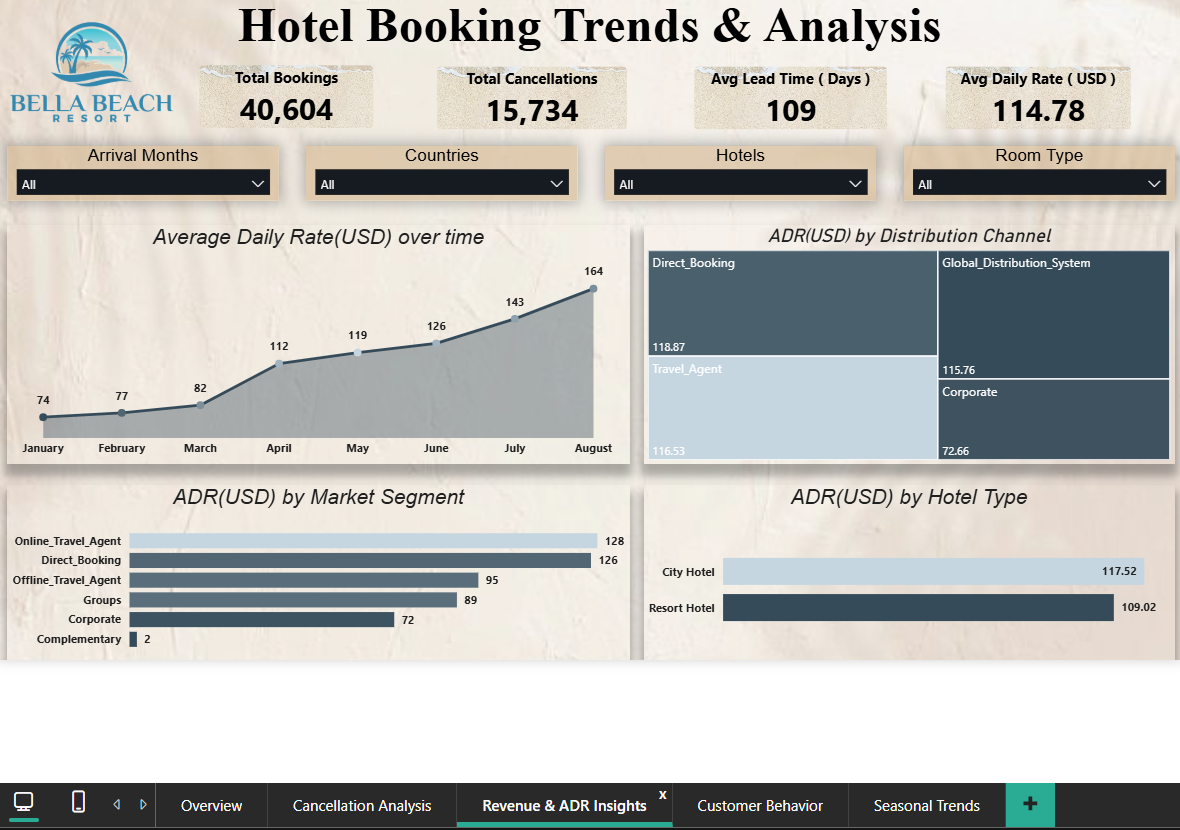

This screenshot's page, from the dashboard's own definition file:
{"tool":"powerbi","page":{"name":"Revenue & ADR Insights","canvas":[1280,720],"ordinal":2},"visuals":[{"type":"slicer","title":"Hotels","fields":{"Values":["hotel_revenue.hotel"]},"box":[655.8,166.3,293,59.3],"z":0},{"type":"slicer","title":"Countries","fields":{"Values":["hotel_revenue.Country Full Name"]},"box":[333.7,166.3,293,59.3],"z":1000},{"type":"textbox","box":[82.2,0,1115.9,86.3],"z":2000},{"type":"slicer","title":"Arrival Months","fields":{"Values":["hotel_revenue.arrival_date_month"]},"box":[12.8,166.3,293,59.3],"z":3000},{"type":"image","box":[12.8,0,181.4,173.3],"z":4000},{"type":"cardVisual","fields":{"Data":["Measure.Avg Lead Time"]},"box":[735.8,63.3,242.6,102.4],"z":5000},{"type":"cardVisual","fields":{"Data":["Measure.Cancellation Rate"]},"box":[458.2,63.3,239.9,102.4],"z":6000},{"type":"cardVisual","fields":{"Data":["Measure.Total Bookings"]},"box":[202.1,62,222.4,102.4],"z":7000},{"type":"cardVisual","fields":{"Data":["Measure.Avg Daily Rate"]},"box":[1006.7,63.3,234.5,102.4],"z":8000},{"type":"slicer","title":"Room Type","fields":{"Values":["hotel_revenue.assigned_room_type"]},"box":[977.9,166.3,293,59.3],"z":9000},{"type":"areaChart","title":"Average Daily Rate(USD) over time","fields":{"Category":["hotel_revenue.arrival_date_month"],"Y":["Avg(hotel_revenue.average_daily_rate)"]},"box":[12.1,250.7,671.1,258.8],"z":10000},{"type":"treemap","title":"ADR(USD) by Distribution Channel","fields":{"Values":["Avg(hotel_revenue.average_daily_rate)"],"Group":["hotel_revenue.distribution_channel"]},"box":[698.1,250.7,572.8,258.8],"z":11000},{"type":"clusteredBarChart","title":"ADR(USD) by Market Segment","fields":{"Category":["hotel_revenue.market_segment"],"Y":["Avg(hotel_revenue.average_daily_rate)"]},"box":[12.1,531,671.1,188.7],"z":12000},{"type":"clusteredBarChart","title":"ADR(USD) by Hotel Type","fields":{"Category":["hotel_revenue.hotel"],"Y":["Avg(hotel_revenue.average_daily_rate)"]},"box":[698.1,531,572.8,188.7],"z":13000}]}

Visuals, with their boxes on the page's 1280x720 design canvas (x1, y1, x2, y2). These are canvas units, not pixel positions in the 1180x830 screenshot, which may show the page scaled, cropped or inside an application window:
"Hotels" slicer: select_region(656, 166, 949, 226)
"Countries" slicer: select_region(334, 166, 627, 226)
textbox: select_region(82, 0, 1198, 86)
"Arrival Months" slicer: select_region(13, 166, 306, 226)
image: select_region(13, 0, 194, 173)
cardVisual - Measure.Avg Lead Time: select_region(736, 63, 978, 166)
cardVisual - Measure.Cancellation Rate: select_region(458, 63, 698, 166)
cardVisual - Measure.Total Bookings: select_region(202, 62, 424, 164)
cardVisual - Measure.Avg Daily Rate: select_region(1007, 63, 1241, 166)
"Room Type" slicer: select_region(978, 166, 1271, 226)
"Average Daily Rate(USD) over time" areaChart: select_region(12, 251, 683, 510)
"ADR(USD) by Distribution Channel" treemap: select_region(698, 251, 1271, 510)
"ADR(USD) by Market Segment" clusteredBarChart: select_region(12, 531, 683, 720)
"ADR(USD) by Hotel Type" clusteredBarChart: select_region(698, 531, 1271, 720)
